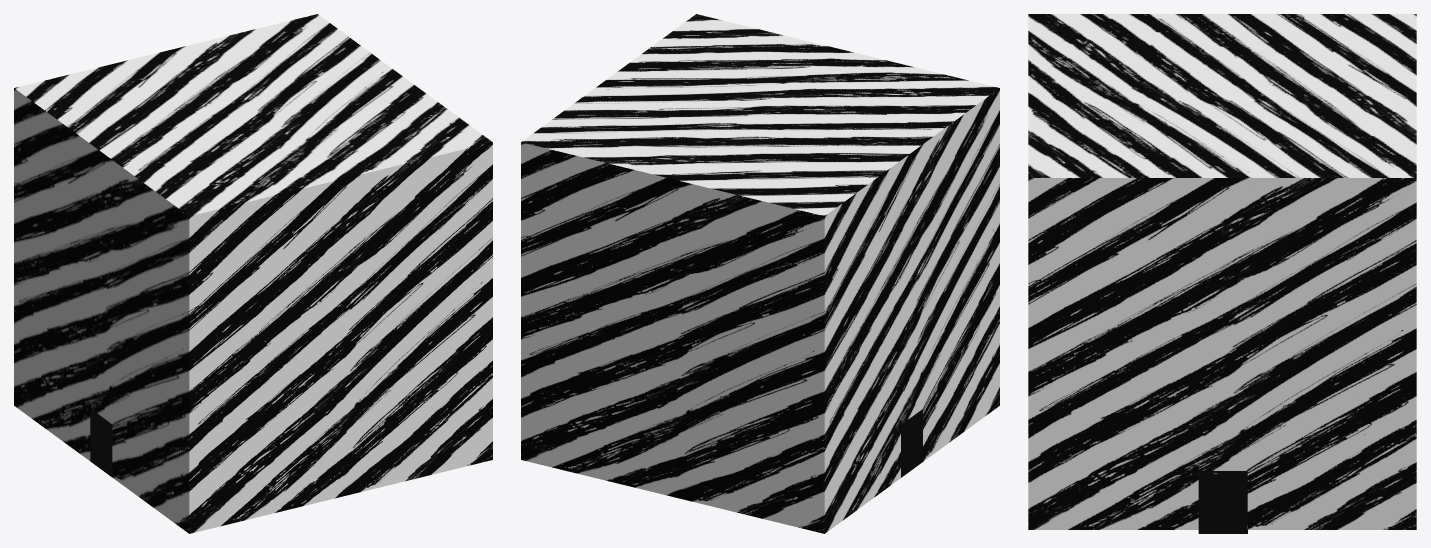
The model's file is Black_Stripes_Rm_Coll.fbx.
3 views of the same model, side by side, from view 1: azimuth 30°, elevation 25°; view 2: azimuth 150°, elevation 25°; view 3: azimuth 270°, elevation 25° (orthographic). The views are drawn at different scales.
Parts seen in each view (by area): view 1: P_Black_Stripes_Rm_Coll; view 2: P_Black_Stripes_Rm_Coll; view 3: P_Black_Stripes_Rm_Coll.
Boxes of the visible parts, x1,y1,x2,y2 form: P_Black_Stripes_Rm_Coll: (14,14,492,533); P_Black_Stripes_Rm_Coll: (521,14,999,533); P_Black_Stripes_Rm_Coll: (1028,14,1416,533).
Size of the model in its own units: 28.51 by 27.81 by 27.81.
